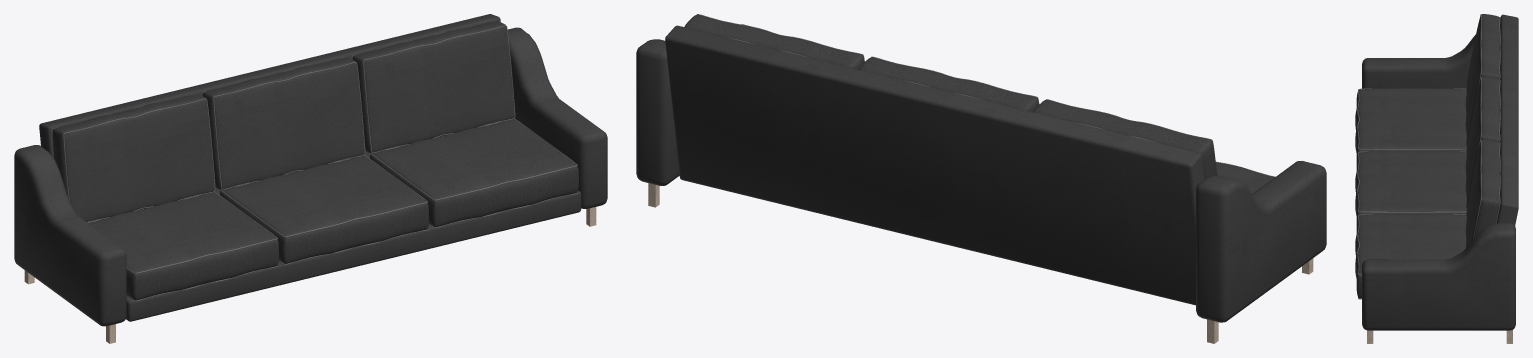
File: sofa_modern_couch_sinematic3d.glb
3 views of the same model, side by side, from view 1: azimuth 30°, elevation 25°; view 2: azimuth 150°, elevation 25°; view 3: azimuth 270°, elevation 25° (orthographic). The views are drawn at different scales.
Visible parts, largest first — view 1: Object_3, Object_2, Object_4; view 2: Object_3, Object_2, Object_4; view 3: Object_3, Object_2, Object_4.
Boxes of the visible parts, bbox=[...] form: Object_3: bbox=[14, 14, 607, 326]; Object_2: bbox=[52, 21, 577, 301]; Object_4: bbox=[24, 207, 596, 343]; Object_3: bbox=[636, 14, 1326, 322]; Object_2: bbox=[697, 14, 1275, 176]; Object_4: bbox=[648, 183, 1313, 343]; Object_3: bbox=[1355, 14, 1518, 330]; Object_2: bbox=[1357, 14, 1500, 299]; Object_4: bbox=[1367, 330, 1512, 343].
Size of the model in its own units: 2.75 by 0.8176 by 0.8914.
Materials: 3 (3 with a texture image).
